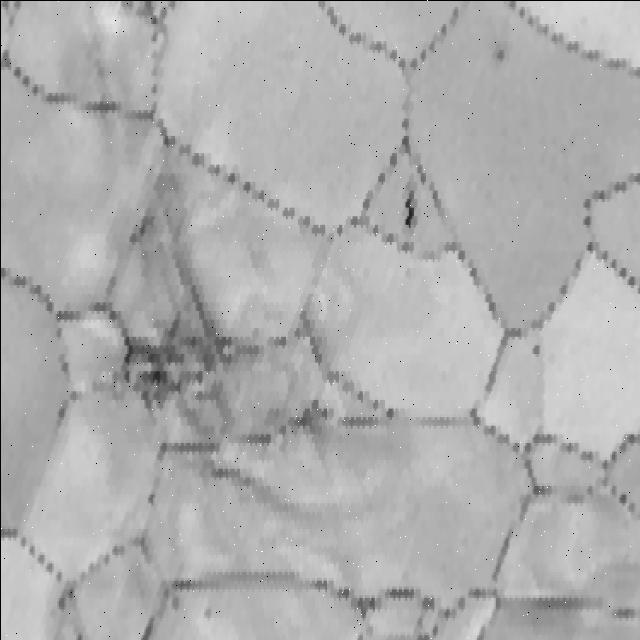good_void: (113, 158, 261, 483), (299, 397, 329, 438), (398, 174, 417, 236), (490, 43, 507, 65), (529, 337, 542, 359), (169, 593, 179, 611), (202, 604, 211, 622)
